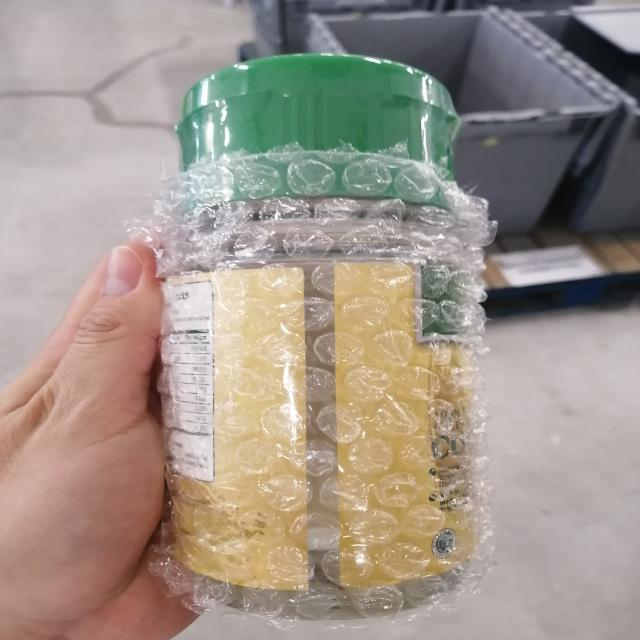object_name: (180, 79, 468, 598)
